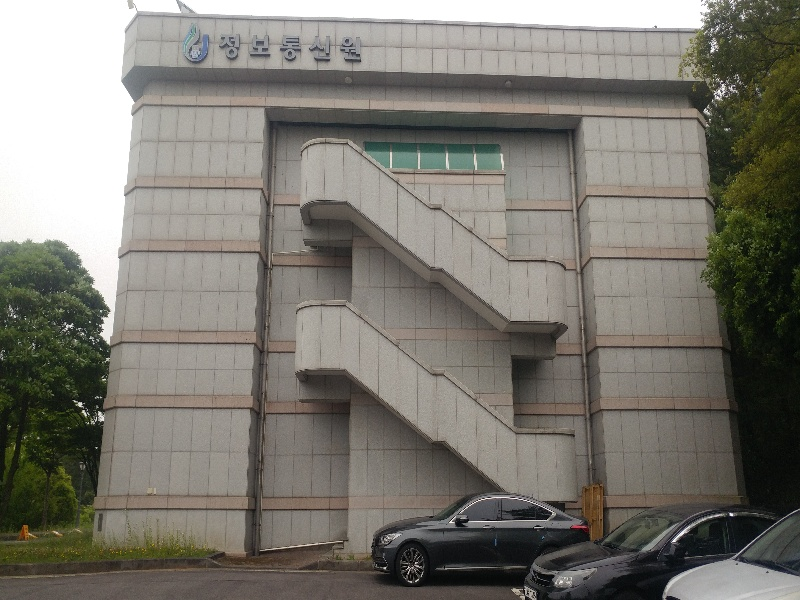Information Telecommunication Center: (120, 13, 740, 509), (126, 13, 440, 83)
